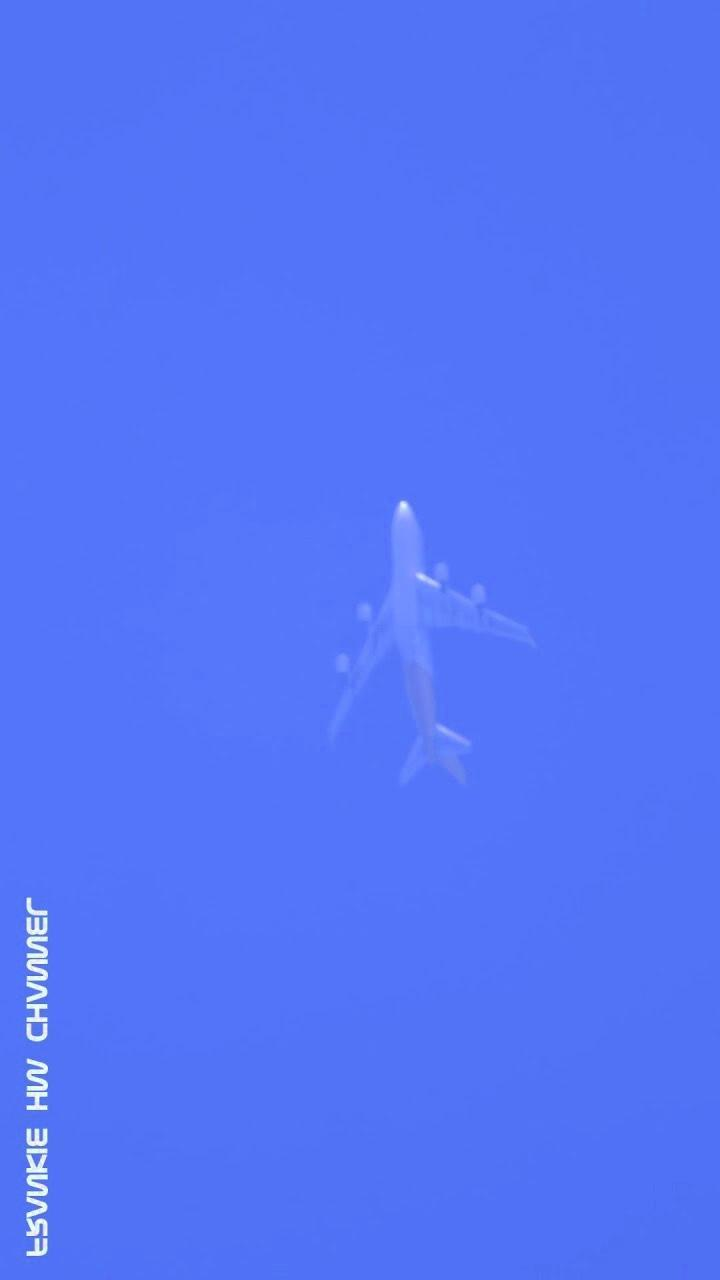Plane: (278, 446, 585, 869)
